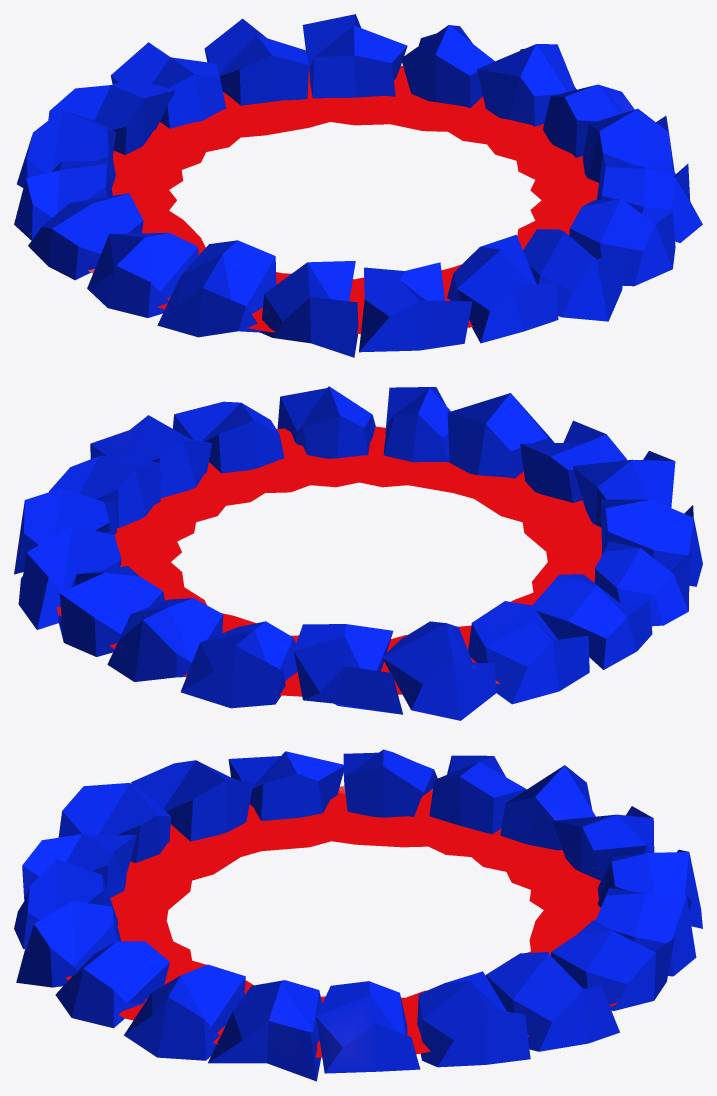
Rendered from Rabbit Hole.fbx.
3 renders of one model, top to bottom at view 1: azimuth 30°, elevation 25°; view 2: azimuth 150°, elevation 25°; view 3: azimuth 270°, elevation 25°, orthographic.
Visible parts, largest first — view 1: Rocks, Dirt; view 2: Rocks, Dirt; view 3: Rocks, Dirt.
Boxes of the visible parts, x1=… form: Rocks: x1=14, y1=14, x2=702, y2=357; Dirt: x1=88, y1=65, x2=598, y2=333; Rocks: x1=14, y1=386, x2=702, y2=720; Dirt: x1=56, y1=426, x2=601, y2=696; Rocks: x1=14, y1=749, x2=702, y2=1081; Dirt: x1=66, y1=786, x2=617, y2=1057.
Bounding box in the file's own units: 1646 × 219 × 1669.
